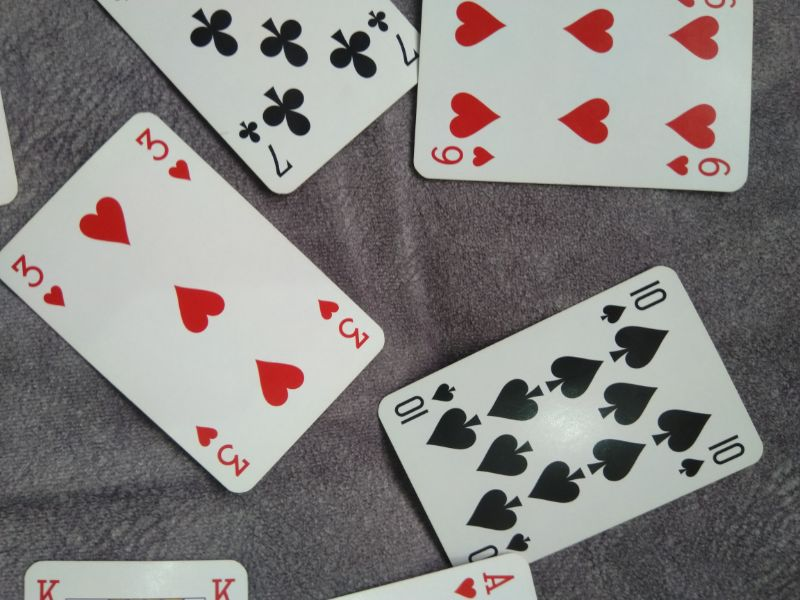3h: (133, 122, 194, 185), (192, 421, 254, 479), (10, 251, 68, 311), (315, 295, 370, 348)
6h: (425, 140, 505, 171), (662, 152, 734, 183)
7c: (236, 116, 294, 179), (364, 6, 420, 68)
Ah: (453, 569, 517, 600)
Ts: (598, 276, 672, 325), (675, 432, 747, 479), (392, 376, 458, 427)
